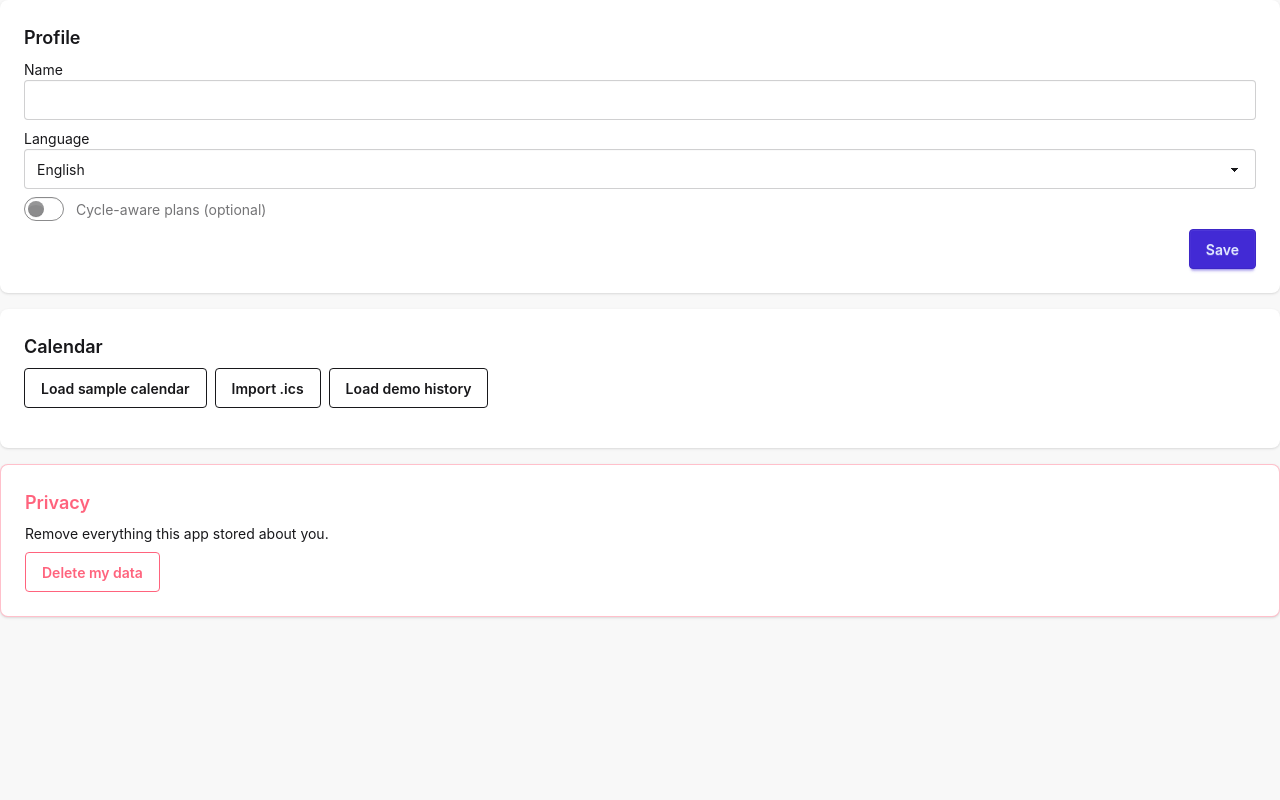
Test: Profile › Delete my data : confirmé → supprime l'API et le résultat local
Expected: the heading "Profile" is shown, [24,27,80,48]
Click the button "Delete my data" at [92, 572], box [25,552,160,592]
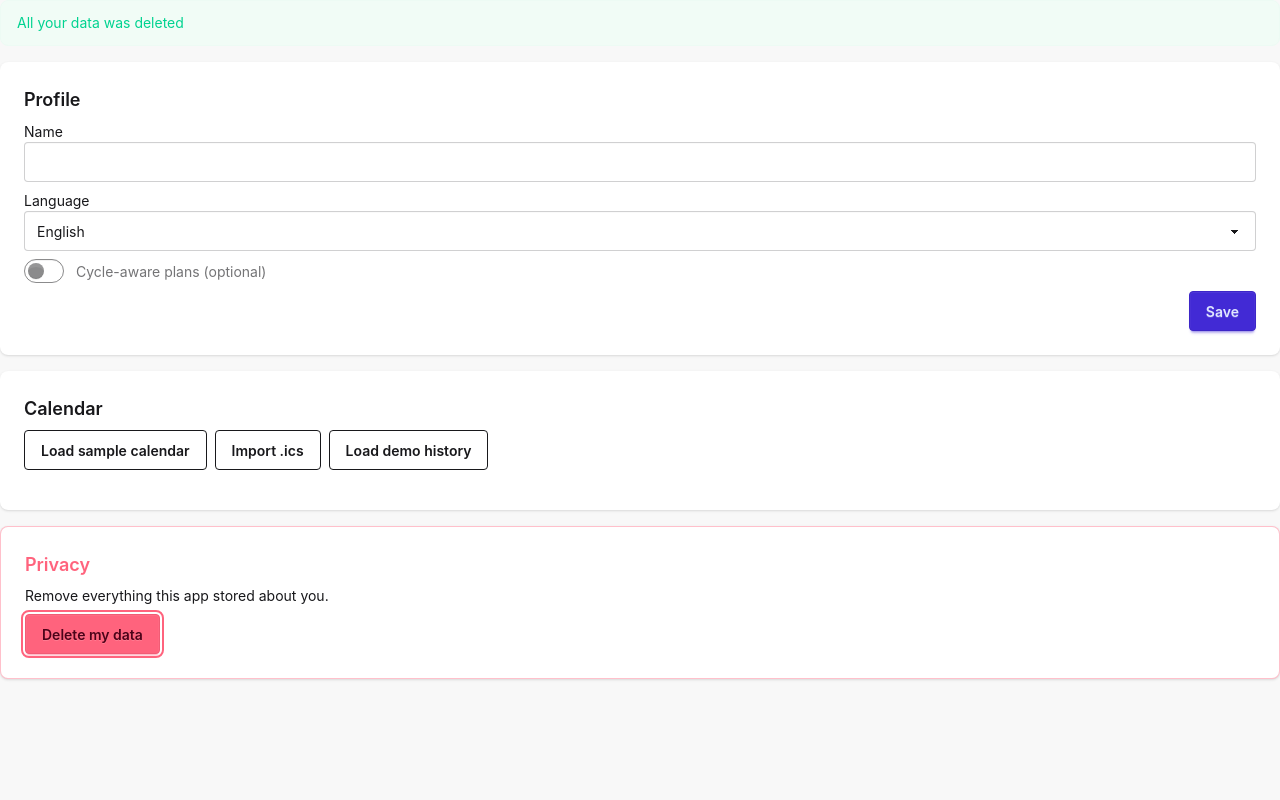
Result: the text "All your data was deleted" is shown at [0,0,1279,46]
